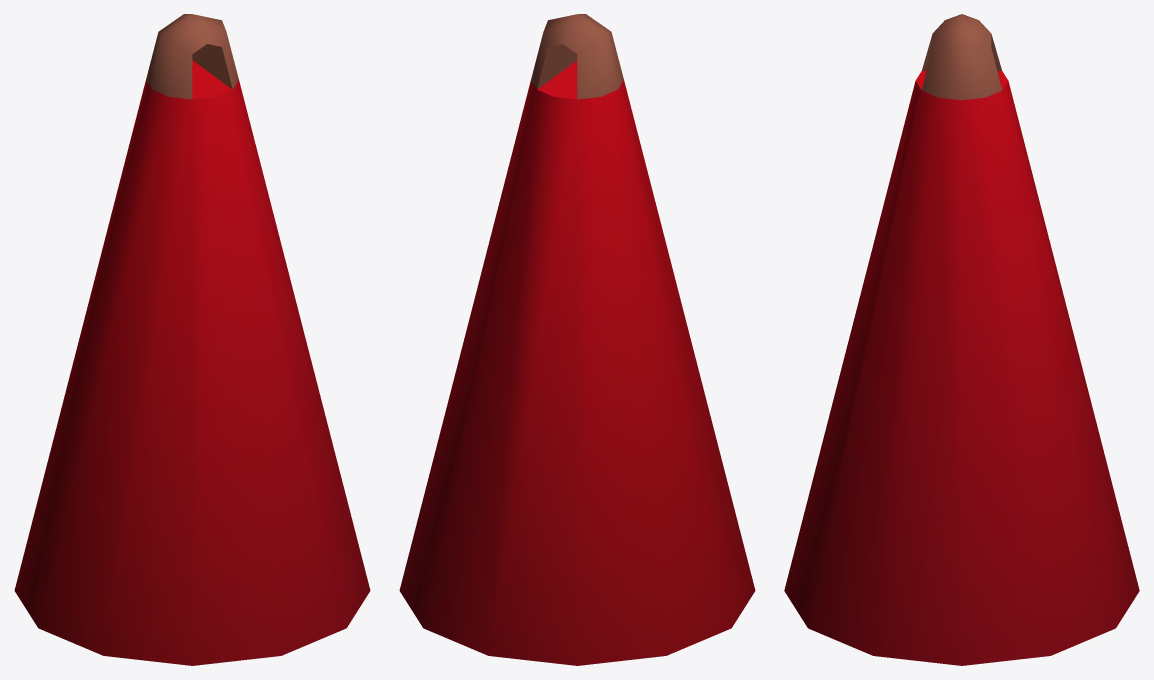
Rendered from Buoy_Pyramid_A.fbx.
3 views of the same model, side by side, from view 1: azimuth 30°, elevation 25°; view 2: azimuth 150°, elevation 25°; view 3: azimuth 270°, elevation 25° (orthographic).
Visible parts, largest first — view 1: Buoy_Pyramid_A; view 2: Buoy_Pyramid_A; view 3: Buoy_Pyramid_A.
Boxes of the visible parts, left/top/right/bottom form: Buoy_Pyramid_A: left=14, top=14, right=370, bottom=665; Buoy_Pyramid_A: left=399, top=14, right=755, bottom=665; Buoy_Pyramid_A: left=784, top=14, right=1139, bottom=665.
Bounding box in the file's own units: 64.62 × 115 × 64.62.
